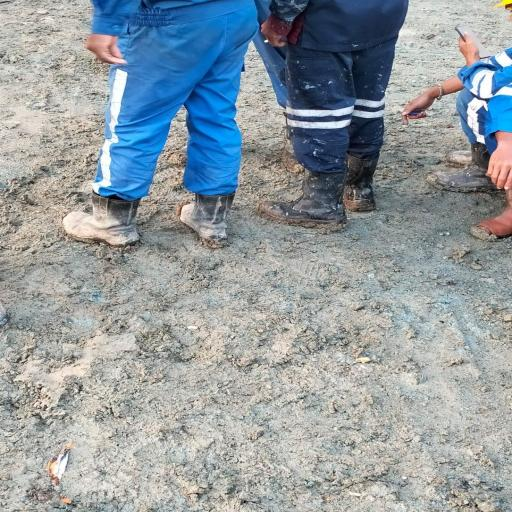safety_shoe: (264, 164, 346, 236), (55, 194, 144, 248), (336, 152, 388, 216), (170, 194, 232, 240), (433, 148, 495, 194)
